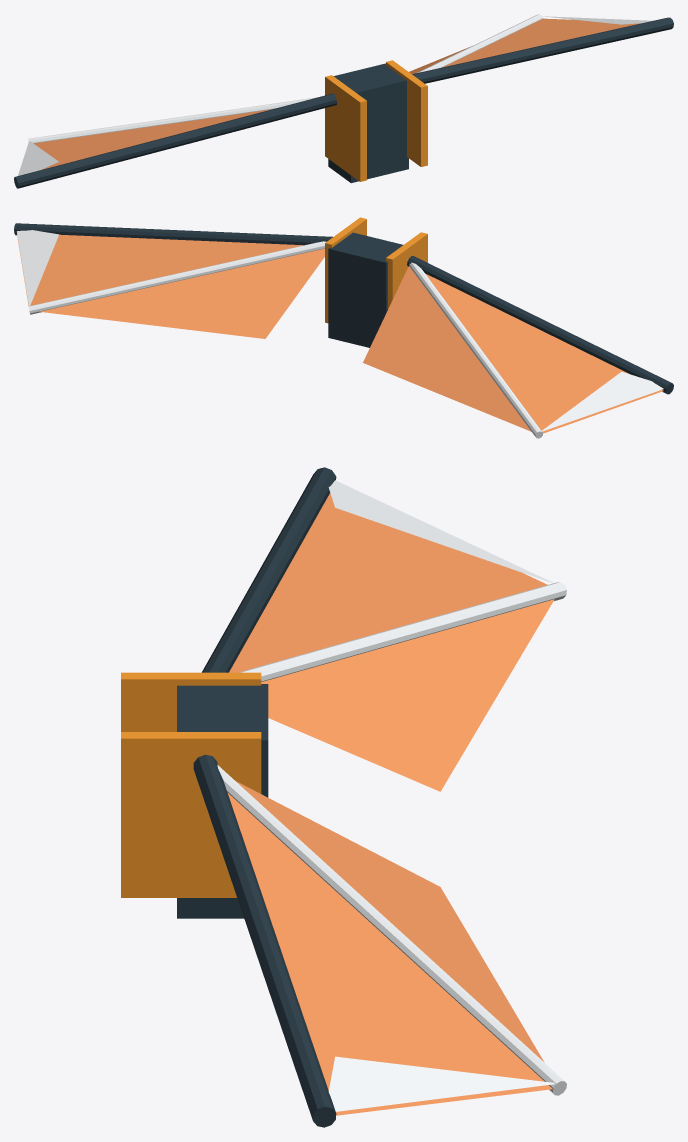
File: flight-wing-swift.glb
3 views of the same model, one above another, from view 1: azimuth 30°, elevation 25°; view 2: azimuth 150°, elevation 25°; view 3: azimuth 270°, elevation 25° (orthographic). The views are drawn at different scales.
Visible parts, largest first — view 1: Compact back harness.001, Leading spar.002, Harness strap.002, Leading spar.003, Low swept wing.002, Low swept wing.003, Harness strap.003, Wing rib.002, Wing rib.003, Wingtip flash.002, Wingtip flash.003; view 2: Low swept wing.003, Low swept wing.002, Compact back harness.001, Leading spar.002, Leading spar.003, Wing rib.003, Wingtip flash.002, Wing rib.002, Wingtip flash.003, Harness strap.002, Harness strap.003; view 3: Low swept wing.002, Low swept wing.003, Harness strap.003, Leading spar.003, Wing rib.003, Wingtip flash.003, Compact back harness.001, Leading spar.002, Wing rib.002, Harness strap.002, Wingtip flash.002.
Boxes of the visible parts, x1,y1,x2,y2 form: Compact back harness.001: (328, 63, 408, 183); Leading spar.002: (14, 93, 336, 188); Harness strap.002: (325, 75, 366, 181); Leading spar.003: (412, 17, 673, 83); Low swept wing.002: (33, 109, 271, 169); Low swept wing.003: (409, 18, 640, 73); Harness strap.003: (386, 60, 427, 166); Wing rib.002: (28, 97, 317, 143); Wing rib.003: (417, 14, 543, 72); Wingtip flash.002: (18, 141, 58, 175); Wingtip flash.003: (543, 16, 652, 24); Low swept wing.003: (17, 233, 324, 338); Low swept wing.002: (363, 266, 663, 433); Compact back harness.001: (328, 232, 402, 347); Leading spar.002: (407, 256, 673, 394); Leading spar.003: (14, 223, 332, 245); Wing rib.003: (28, 241, 325, 314); Wingtip flash.002: (542, 371, 663, 431); Wing rib.002: (407, 260, 543, 438); Wingtip flash.003: (17, 230, 58, 305); Harness strap.002: (386, 232, 427, 309); Harness strap.003: (325, 217, 366, 323); Low swept wing.002: (229, 493, 554, 791); Low swept wing.003: (227, 781, 552, 1115); Harness strap.003: (121, 732, 261, 897); Leading spar.003: (193, 754, 336, 1127); Wing rib.003: (217, 765, 566, 1095); Wingtip flash.003: (328, 1056, 554, 1111); Compact back harness.001: (177, 684, 268, 918); Leading spar.002: (202, 467, 336, 672); Wing rib.002: (239, 582, 566, 681); Harness strap.002: (121, 672, 261, 731); Wingtip flash.002: (328, 480, 553, 583).
Bounding box in the file's own units: 4.31 × 0.58 × 1.27.
